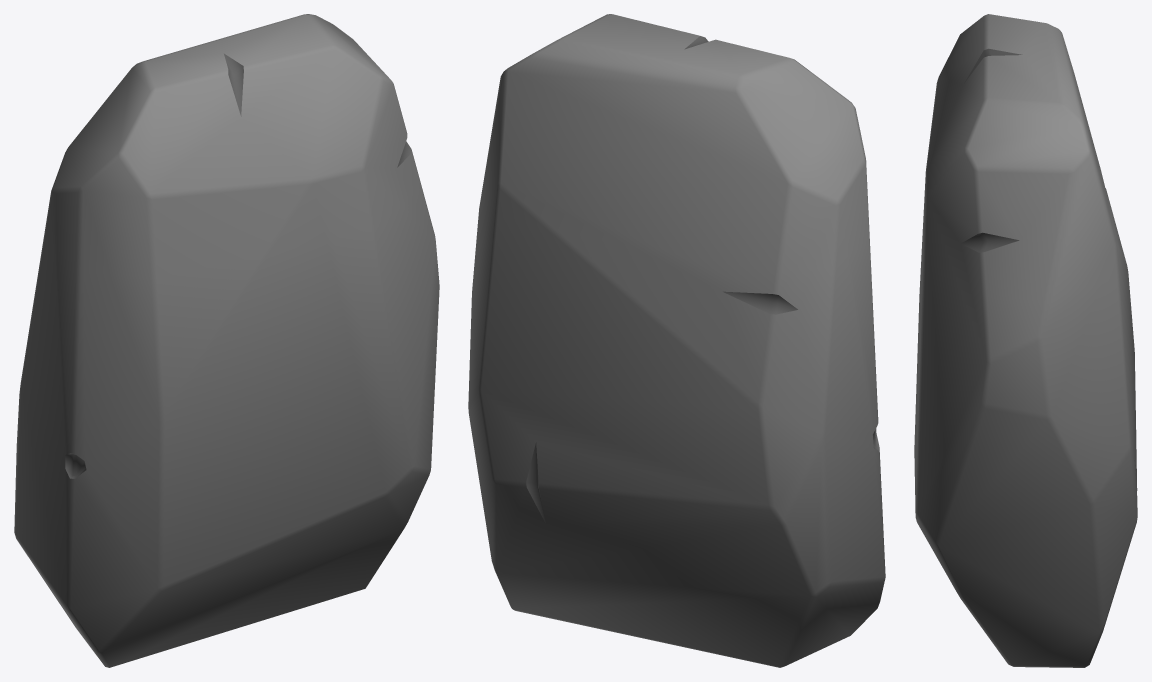
Rendered from Rock02.fbx.
The picture shows the model from 3 angles, left to right: view 1: azimuth 30°, elevation 25°; view 2: azimuth 150°, elevation 25°; view 3: azimuth 270°, elevation 25°; orthographic projection. The views are drawn at different scales.
Parts seen in each view (by area): view 1: LOD0; view 2: LOD0; view 3: LOD0.
Part boxes in pixels (<box>): LOD0: <box>14,14,439,667</box>; LOD0: <box>468,14,885,667</box>; LOD0: <box>914,14,1137,667</box>.
Size of what is drawn, in the model's own units: 305 by 162 by 440.
